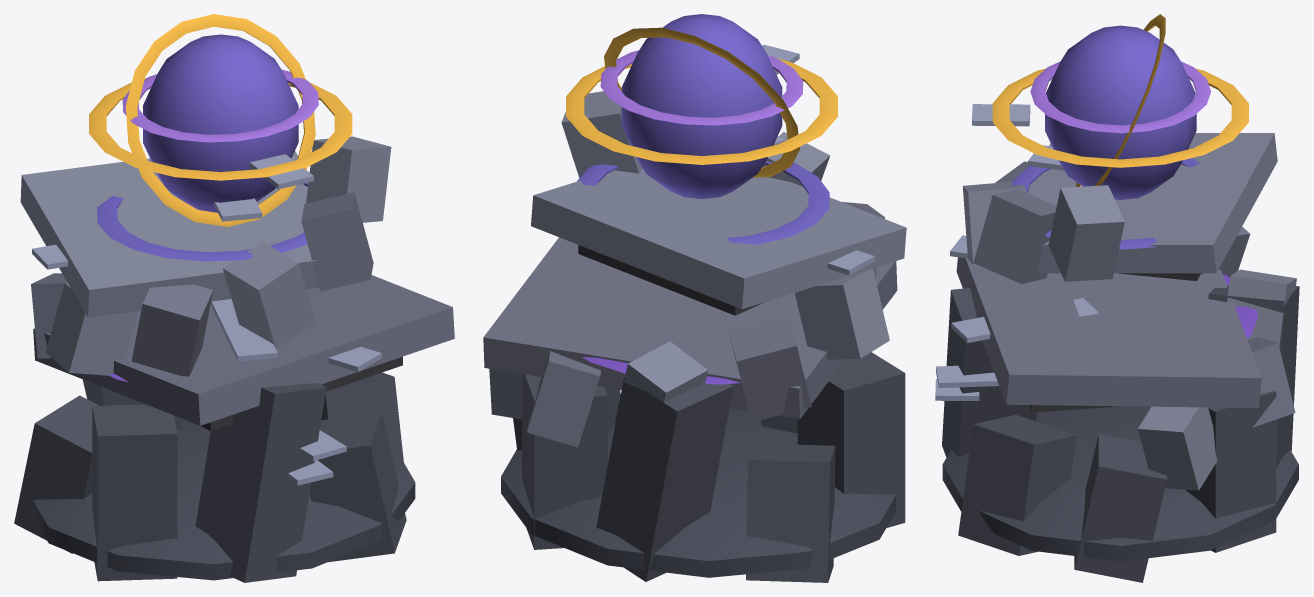
Rendered from riftling.glb.
The picture shows the model from 3 angles, left to right: view 1: azimuth 30°, elevation 25°; view 2: azimuth 150°, elevation 25°; view 3: azimuth 270°, elevation 25°; orthographic projection. The views are drawn at different scales.
Parts seen in each view (by area): view 1: Riftling; view 2: Riftling; view 3: Riftling.
Part boxes in pixels (<box>): Riftling: <box>14,14,454,582</box>; Riftling: <box>483,14,906,582</box>; Riftling: <box>935,14,1299,582</box>.
Bounding box in the file's own units: 2.5 × 3.4 × 2.33.
1 material, 1 textured.
